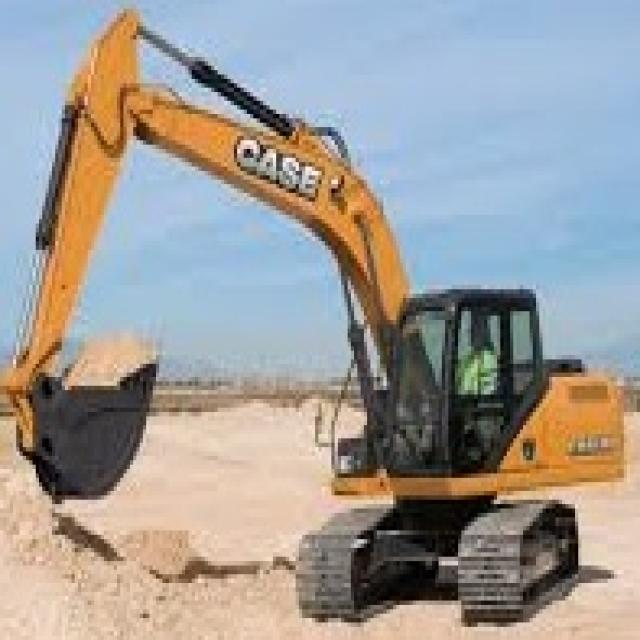excavator: (280, 284, 625, 602)
